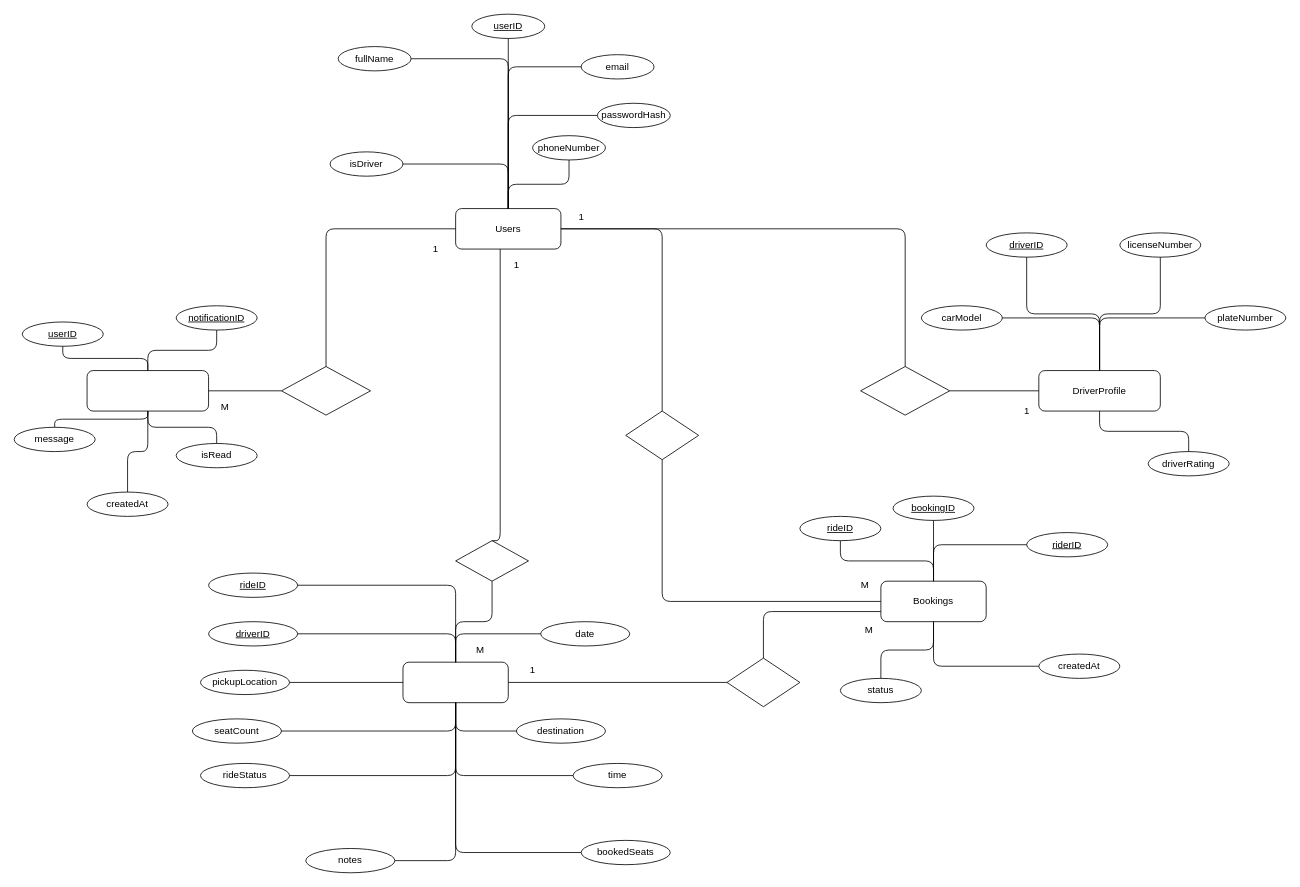
This 1300x887 diagram has some shape labels left out. The centre of each missing label's shape, as x and y in pixels:
Has Bookings: (x=763, y=682)
Has Driver Profile: (x=905, y=390)
Makes Booking: (x=662, y=435)
Notifications: (x=147, y=390)
Posts Ride: (x=492, y=560)
Receives Notification: (x=326, y=390)
Rides: (x=455, y=682)
